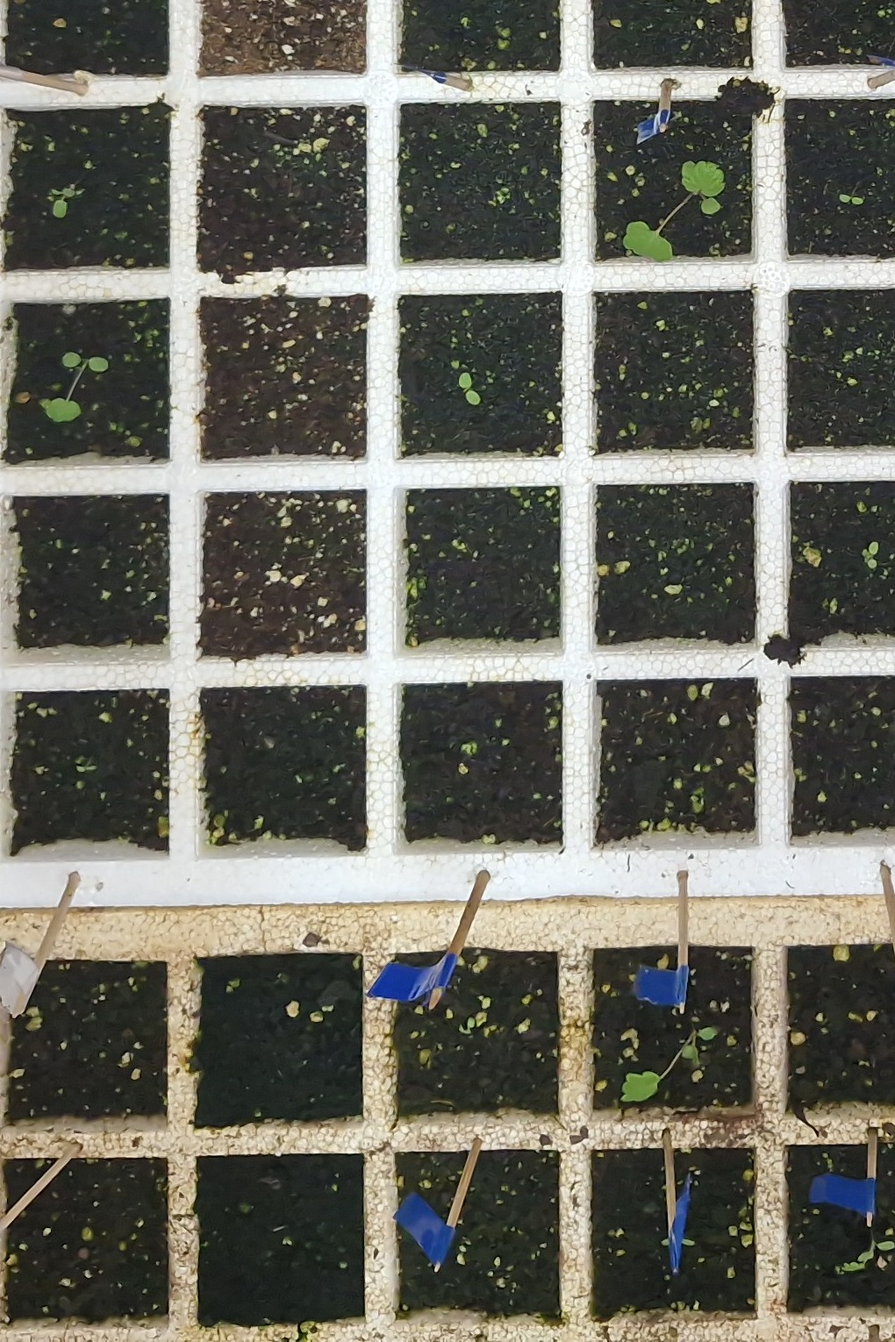Folha: (625, 223, 673, 262), (682, 161, 725, 197), (48, 397, 82, 422), (701, 197, 720, 214), (90, 357, 108, 372), (63, 353, 81, 367), (54, 201, 67, 217), (466, 391, 480, 405), (459, 373, 471, 387), (869, 541, 878, 555), (862, 549, 871, 562)
Germinacao: (624, 161, 726, 262), (47, 352, 108, 422), (52, 188, 75, 218), (459, 373, 480, 404), (862, 542, 878, 568), (840, 186, 863, 204), (76, 761, 96, 773)
